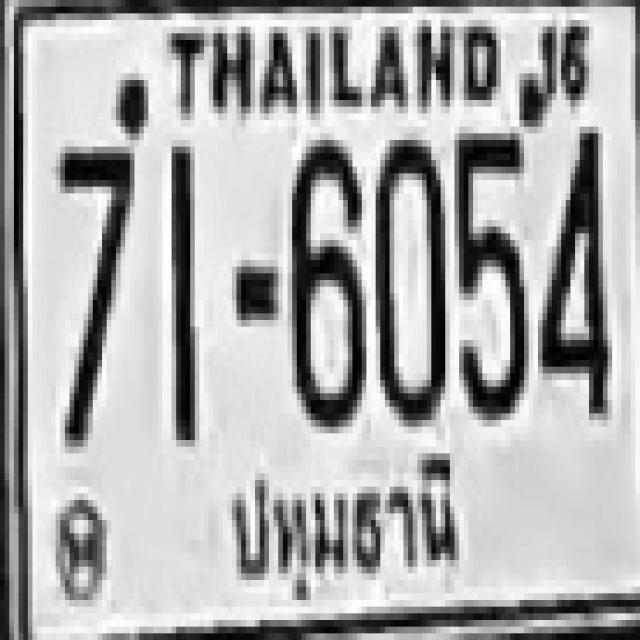0: (373, 133, 443, 420)
1: (167, 143, 195, 437)
4: (538, 127, 608, 413)
5: (455, 127, 524, 413)
6: (288, 137, 362, 423)
7: (56, 143, 130, 437), (56, 143, 130, 350)
PathumThani: (210, 445, 460, 588)
